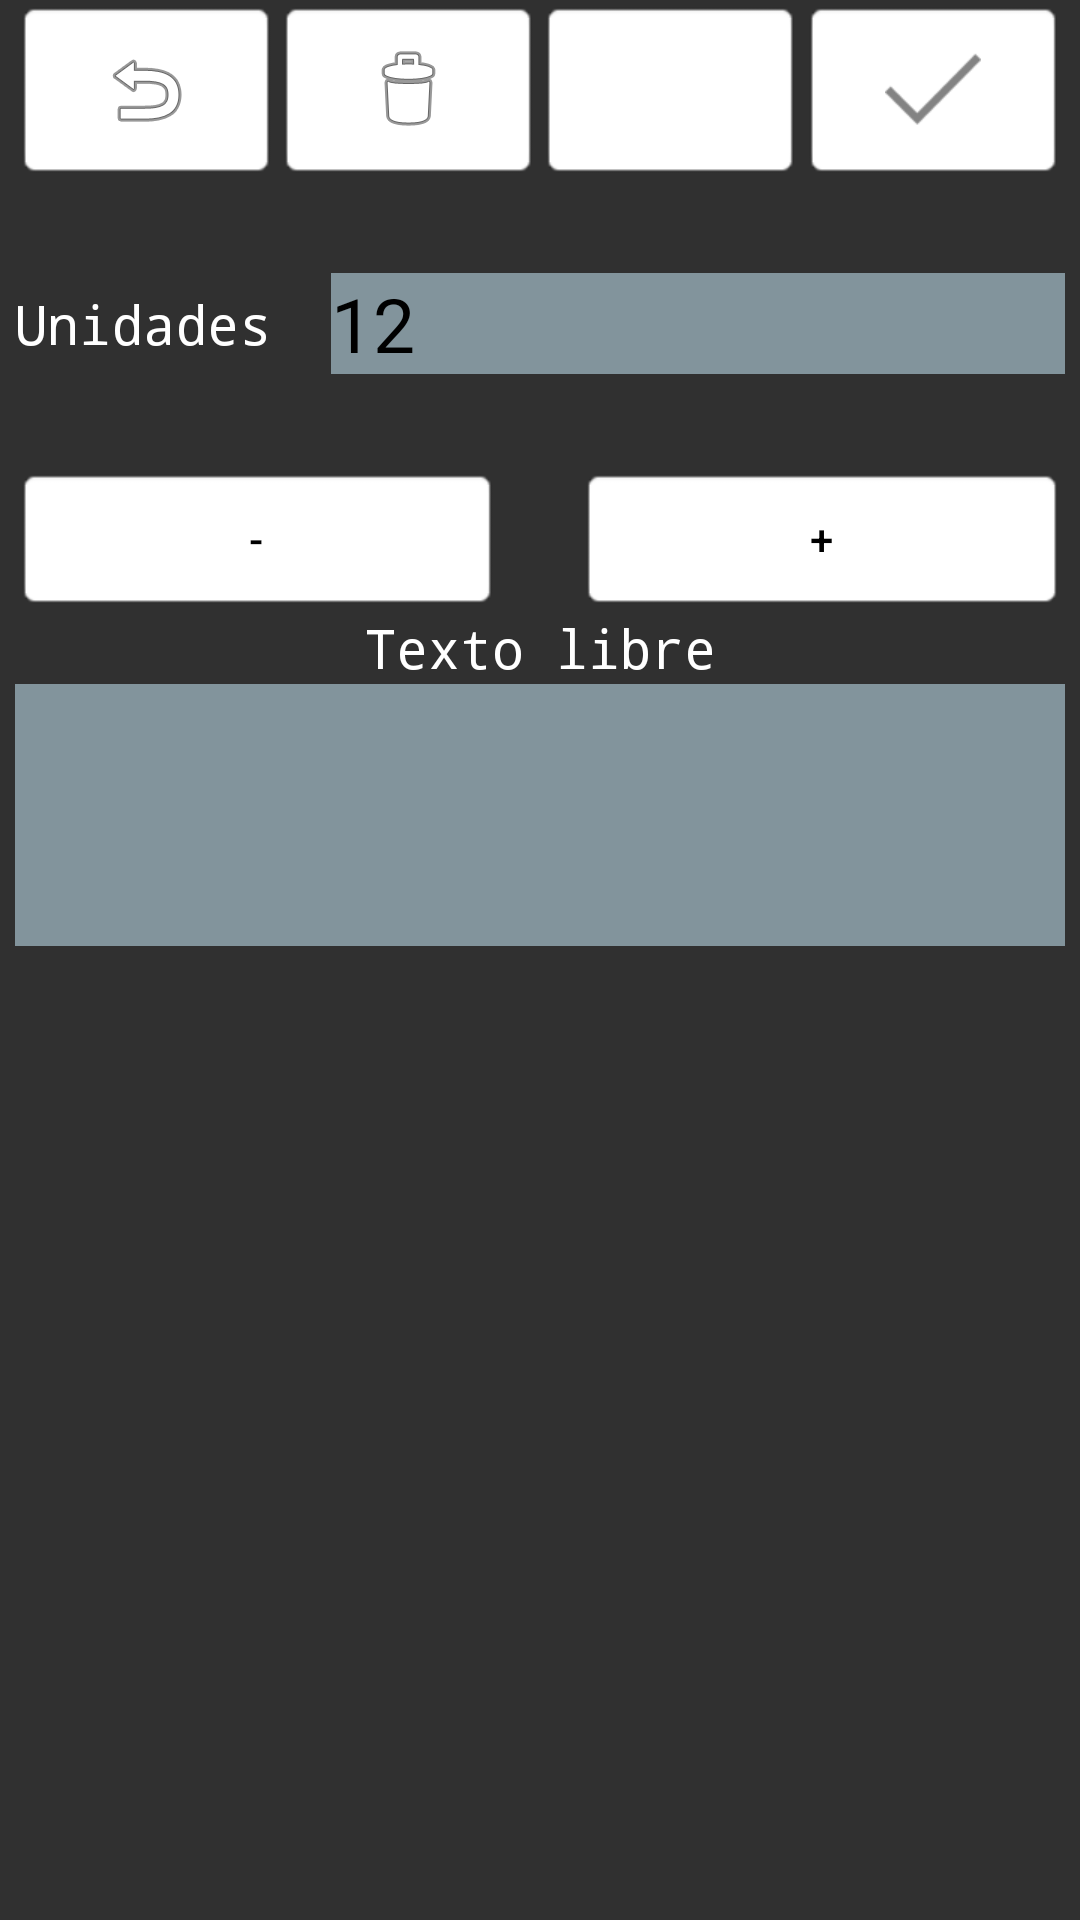

Icon click points for this 1080w x 1920h phone screenshot, format (x,y):
confirmar pedido: (933,90)
delete: (408,90)
Volver: (146,90)
